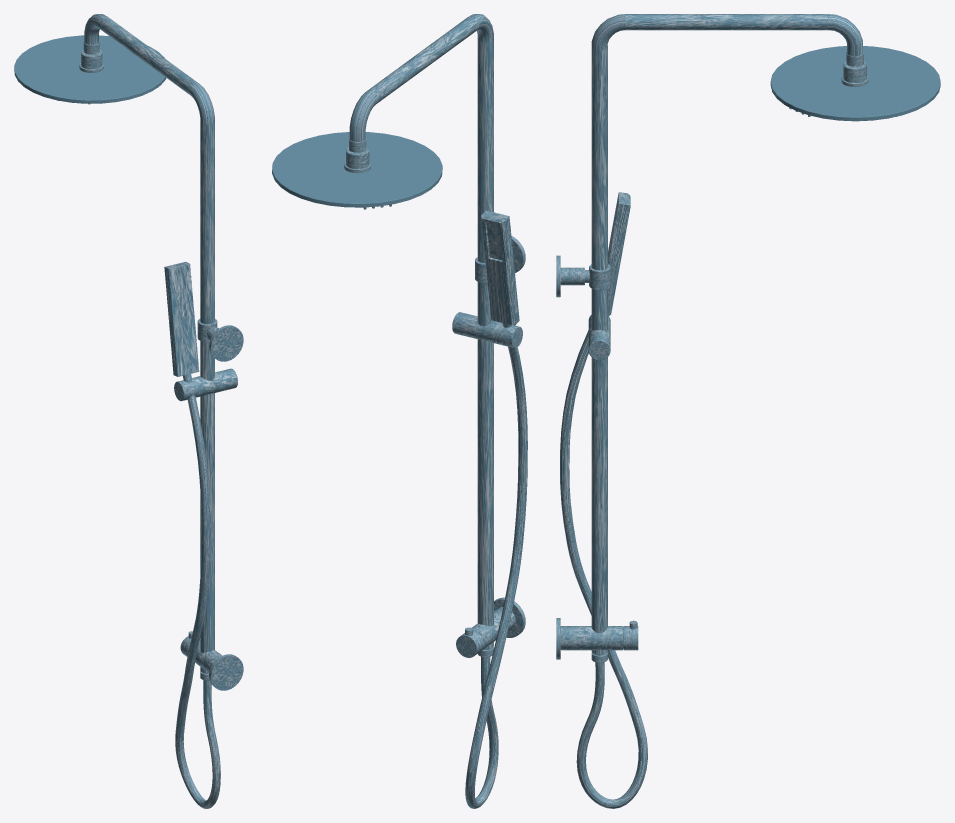
The model's file is ducha.obj.
3 renders of one model, left to right at view 1: azimuth 30°, elevation 25°; view 2: azimuth 150°, elevation 25°; view 3: azimuth 270°, elevation 25°, orthographic. The views are drawn at different scales.
Parts seen in each view (by area): view 1: Modern_showerhead_Cylinder_055; view 2: Modern_showerhead_Cylinder_055; view 3: Modern_showerhead_Cylinder_055.
Boxes of the visible parts, <box> form: Modern_showerhead_Cylinder_055: <box>14,14,243,808</box>; Modern_showerhead_Cylinder_055: <box>272,14,527,808</box>; Modern_showerhead_Cylinder_055: <box>556,14,940,808</box>.
Size of the model in its own units: 4.02 by 20.66 by 9.08.
Materials: 1 (1 with a texture image).
